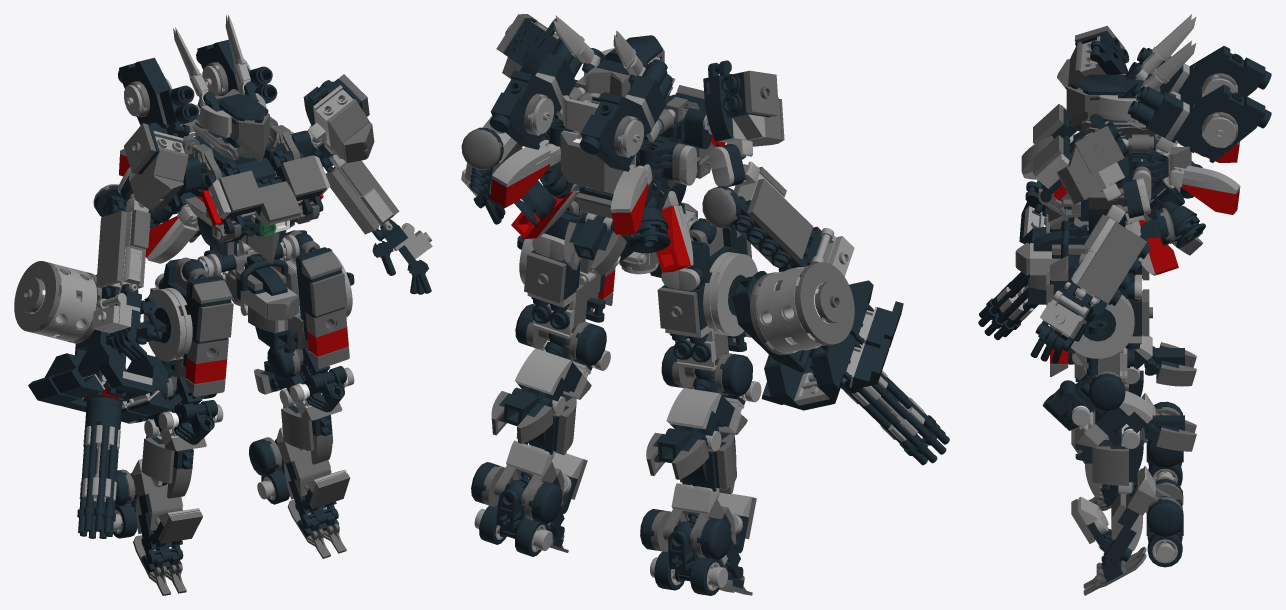
Rendered from refx-tn-67-fukurou.dae.
3 views of the same model, side by side, from view 1: azimuth 30°, elevation 25°; view 2: azimuth 150°, elevation 25°; view 3: azimuth 270°, elevation 25° (orthographic). The views are drawn at different scales.
Bounding box in the file's own units: 494 × 319 × 631.
